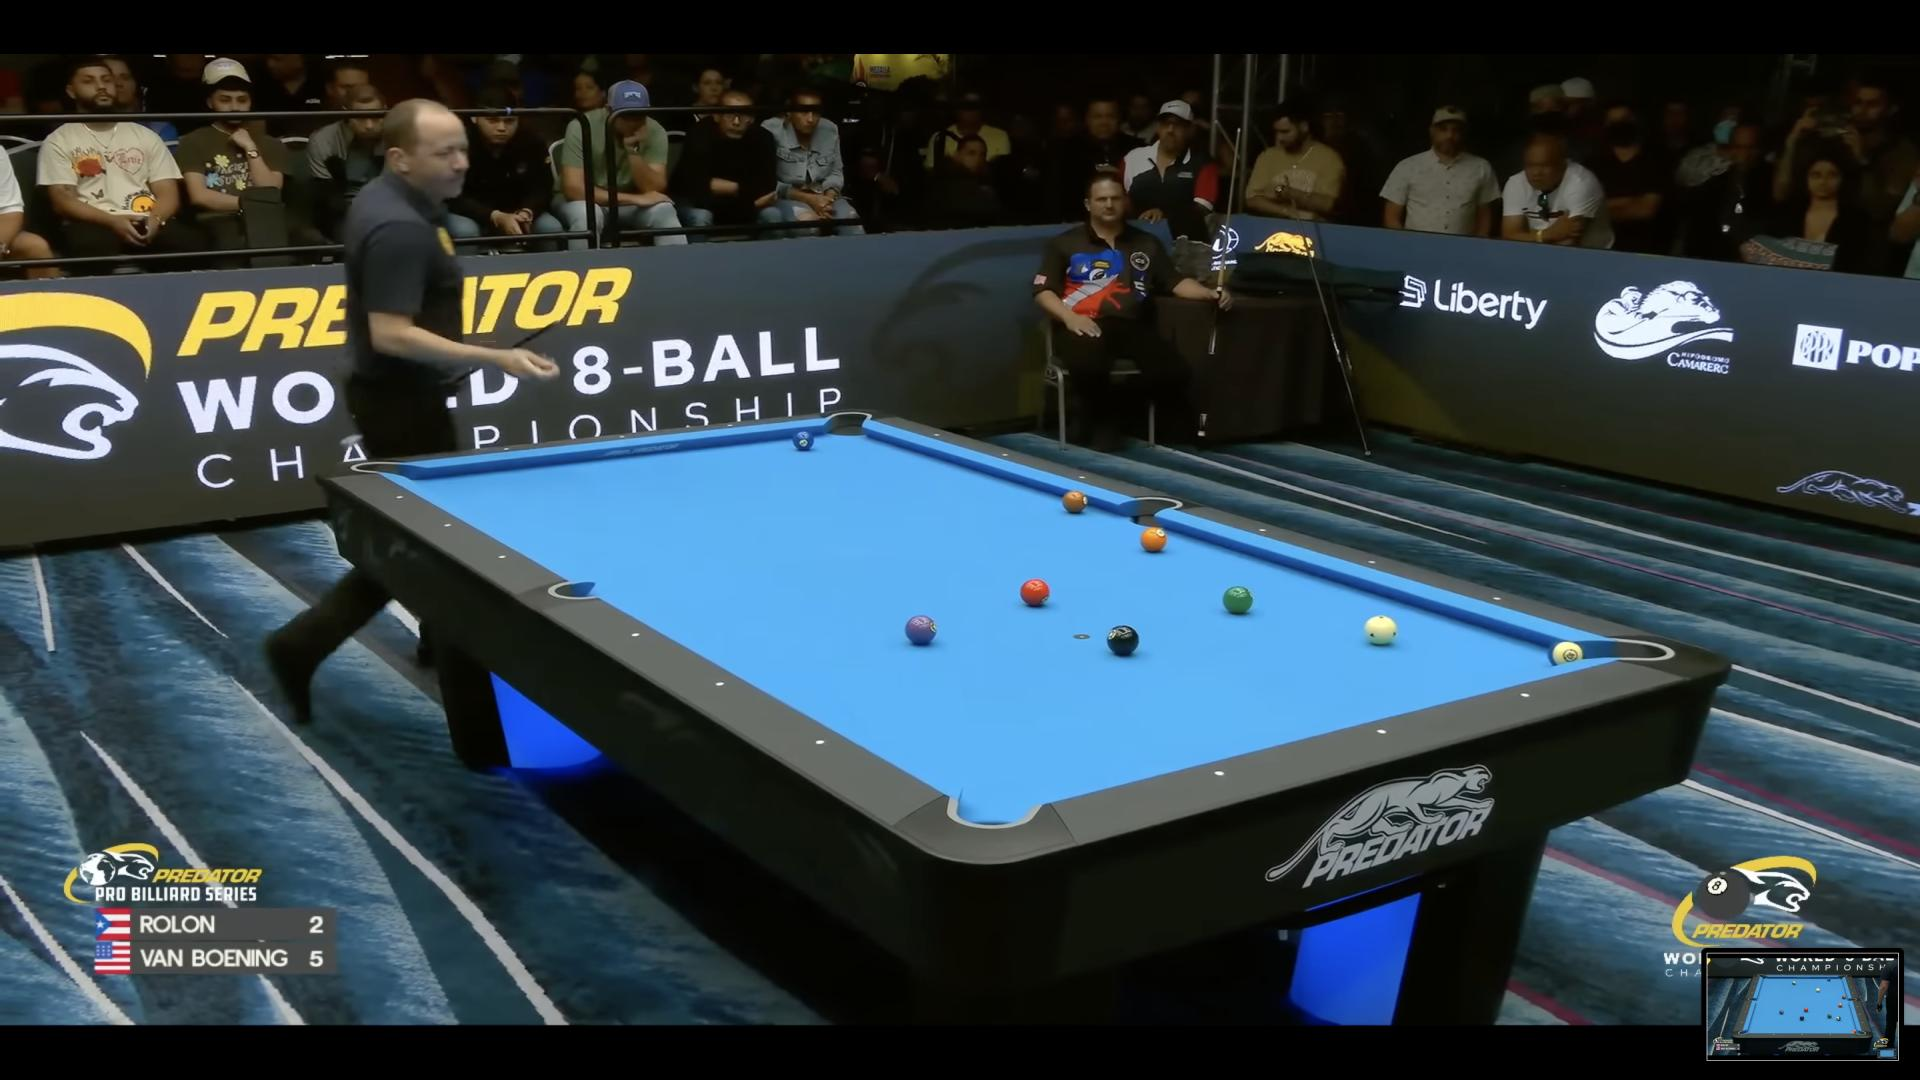Black: (1106, 625, 1139, 654)
Cue: (1364, 616, 1396, 645)
Dot: (1516, 690, 1532, 703), (1212, 767, 1226, 781), (1375, 725, 1390, 738), (629, 628, 644, 641), (495, 551, 509, 564), (440, 518, 455, 531), (392, 491, 406, 504), (812, 736, 825, 749), (713, 676, 727, 690), (1367, 556, 1378, 567), (1258, 525, 1269, 535), (1076, 472, 1087, 483), (931, 430, 942, 440), (998, 450, 1010, 459), (1491, 595, 1502, 604), (502, 444, 509, 452), (618, 434, 625, 440), (727, 422, 733, 429)
Solid: (905, 615, 938, 644), (1222, 585, 1254, 613), (1021, 579, 1051, 605), (1141, 527, 1167, 551), (1062, 491, 1088, 513), (791, 430, 814, 450)
Striped: (1548, 641, 1584, 666)
